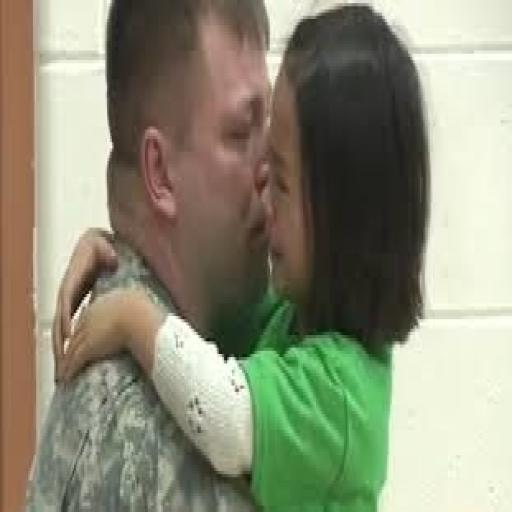hugging: (44, 3, 434, 509)
